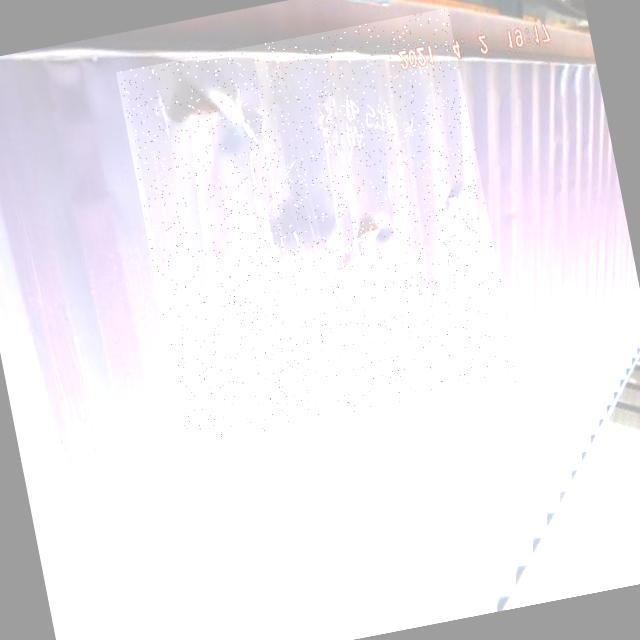Dent: (116, 7, 520, 445)
